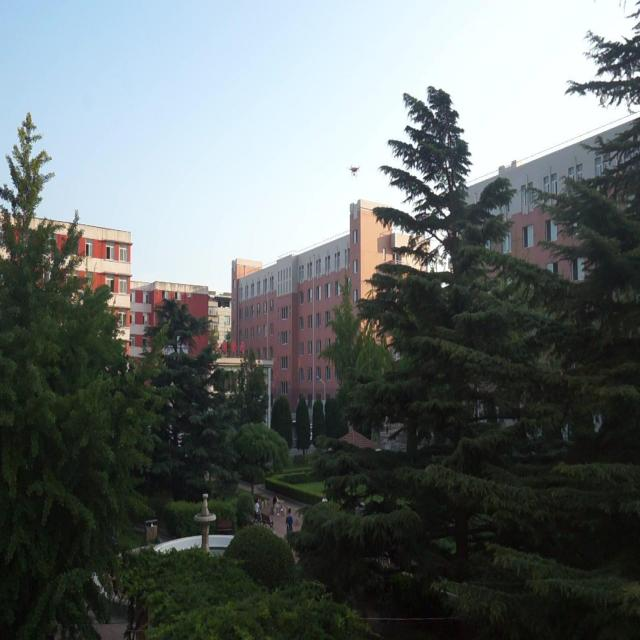UAV: (347, 165, 360, 178)
